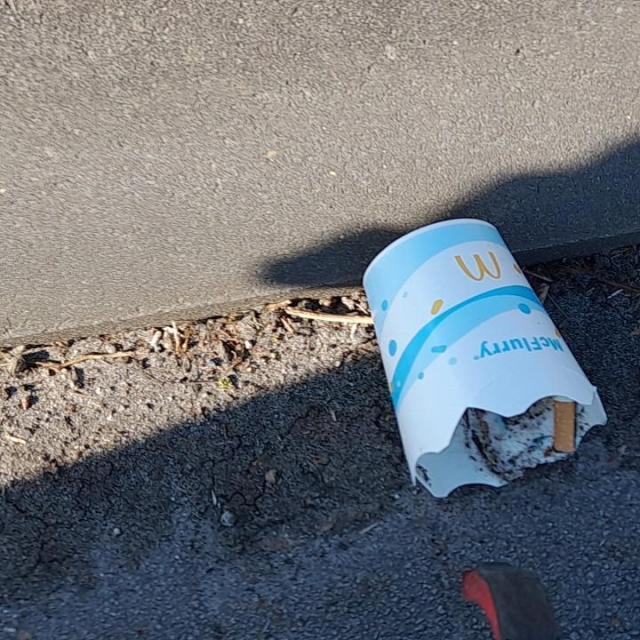Paper: (358, 215, 611, 500)
